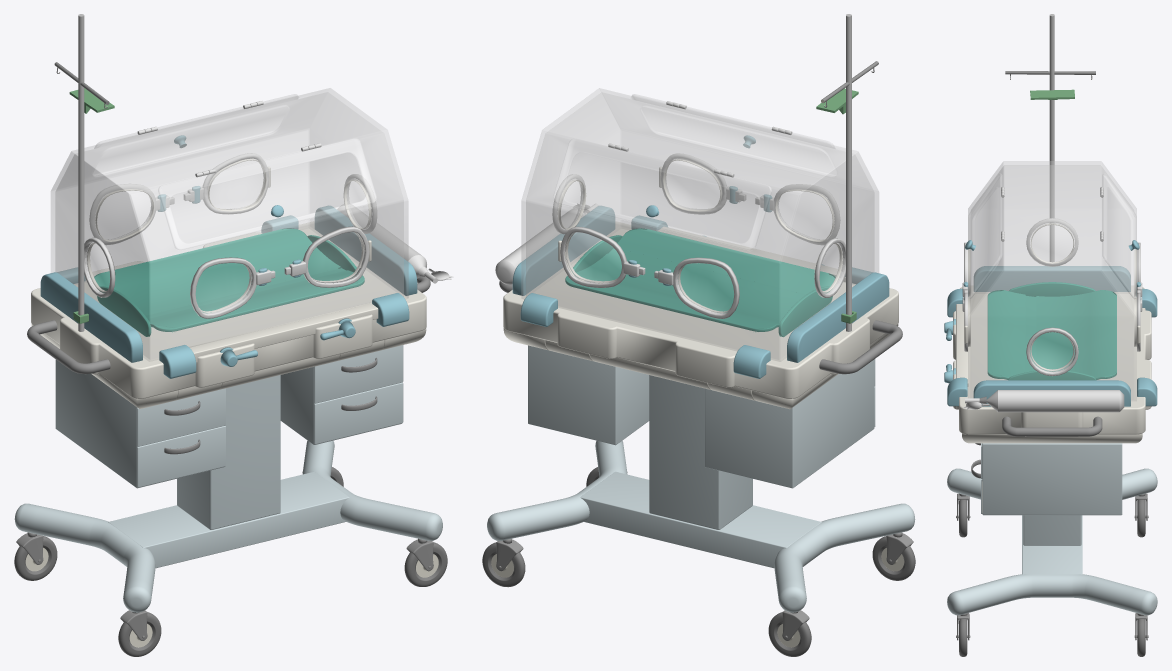
3 renders of one model, left to right at view 1: azimuth 30°, elevation 25°; view 2: azimuth 150°, elevation 25°; view 3: azimuth 270°, elevation 25°, orthographic. The views are drawn at different scales.
Visible parts, largest first — view 1: Object_12, Object_15, Object_19, Object_27, Object_16, Object_22, Object_29, Object_5, Object_28, Object_8, Object_3, Object_31 (+6 smaller); view 2: Object_12, Object_15, Object_19, Object_27, Object_22, Object_29, Object_5, Object_28, Object_8, Object_3, Object_31, Object_4 (+5 smaller); view 3: Object_12, Object_15, Object_19, Object_27, Object_22, Object_31, Object_29, Object_5, Object_8, Object_4, Object_18, Object_26 (+6 smaller).
Boxes of the visible parts, left/top/right/bottom form: Object_12: left=51, top=88, right=408, bottom=361; Object_15: left=14, top=359, right=442, bottom=612; Object_19: left=31, top=221, right=426, bottom=408; Object_27: left=94, top=228, right=364, bottom=336; Object_16: left=137, top=345, right=403, bottom=487; Object_22: left=40, top=205, right=417, bottom=378; Object_29: left=84, top=101, right=376, bottom=297; Object_5: left=14, top=467, right=447, bottom=656; Object_28: left=190, top=226, right=369, bottom=318; Object_8: left=78, top=14, right=84, bottom=331; Object_3: left=16, top=471, right=433, bottom=640; Object_31: left=337, top=204, right=453, bottom=283; Object_12: left=521, top=88, right=878, bottom=361; Object_15: left=487, top=345, right=915, bottom=612; Object_19: left=503, top=221, right=898, bottom=409; Object_27: left=565, top=228, right=835, bottom=336; Object_22: left=512, top=206, right=889, bottom=378; Object_29: left=552, top=101, right=845, bottom=318; Object_5: left=482, top=467, right=915, bottom=656; Object_28: left=661, top=153, right=840, bottom=244; Object_8: left=846, top=14, right=851, bottom=331; Object_3: left=496, top=472, right=913, bottom=640; Object_31: left=495, top=203, right=598, bottom=284; Object_4: left=499, top=281, right=902, bottom=374; Object_12: left=968, top=161, right=1136, bottom=400; Object_15: left=947, top=443, right=1157, bottom=615; Object_19: left=953, top=286, right=1151, bottom=443; Object_27: left=987, top=282, right=1116, bottom=380; Object_22: left=947, top=266, right=1157, bottom=406; Object_31: left=963, top=390, right=1124, bottom=412; Object_29: left=964, top=186, right=1142, bottom=376; Object_5: left=959, top=499, right=1145, bottom=656; Object_8: left=1049, top=14, right=1054, bottom=261; Object_4: left=1002, top=416, right=1102, bottom=436; Object_18: left=1030, top=223, right=1140, bottom=371; Object_26: left=989, top=291, right=1105, bottom=377.
Bounding box in the file's own units: 2400 × 3860 × 1441.
